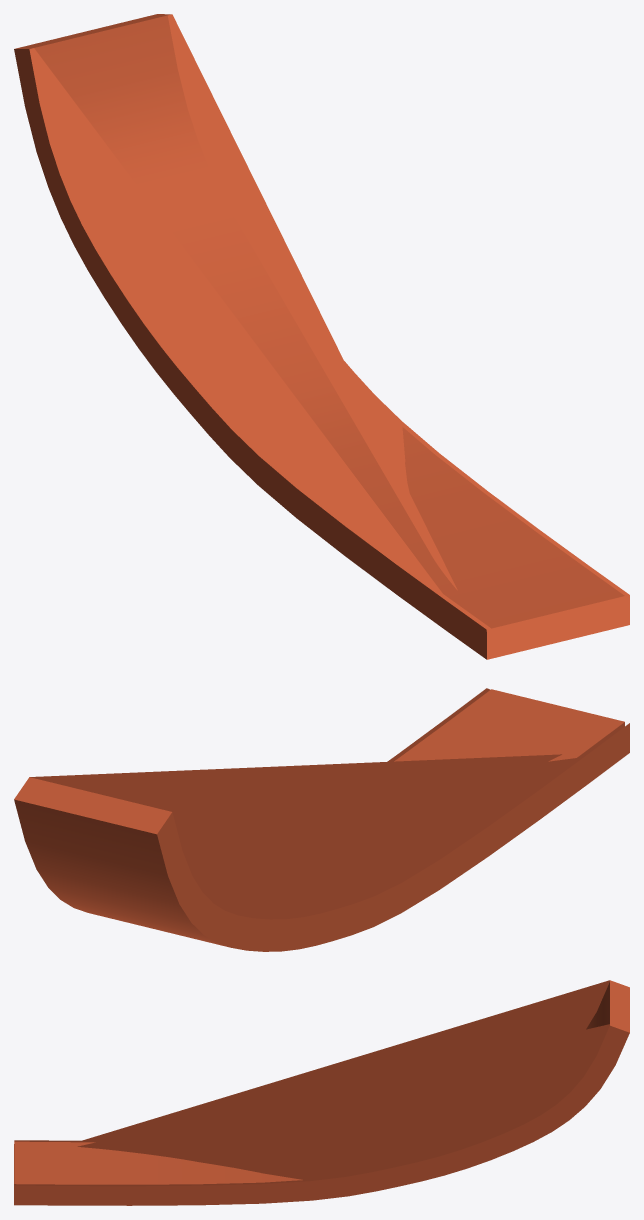
File: Car_Track_Up_Fixed.fbx
3 views of the same model, one above another, from view 1: azimuth 30°, elevation 25°; view 2: azimuth 150°, elevation 25°; view 3: azimuth 270°, elevation 25° (orthographic). The views are drawn at different scales.
Visible parts, largest first — view 1: pCube1; view 2: pCube1; view 3: pCube1.
Part boxes in pixels (x1,y1,x2,y2): pCube1: [14, 14, 629, 659]; pCube1: [14, 688, 629, 951]; pCube1: [14, 980, 629, 1205].
Size of the model in its own units: 1 by 1.85 by 5.73.
